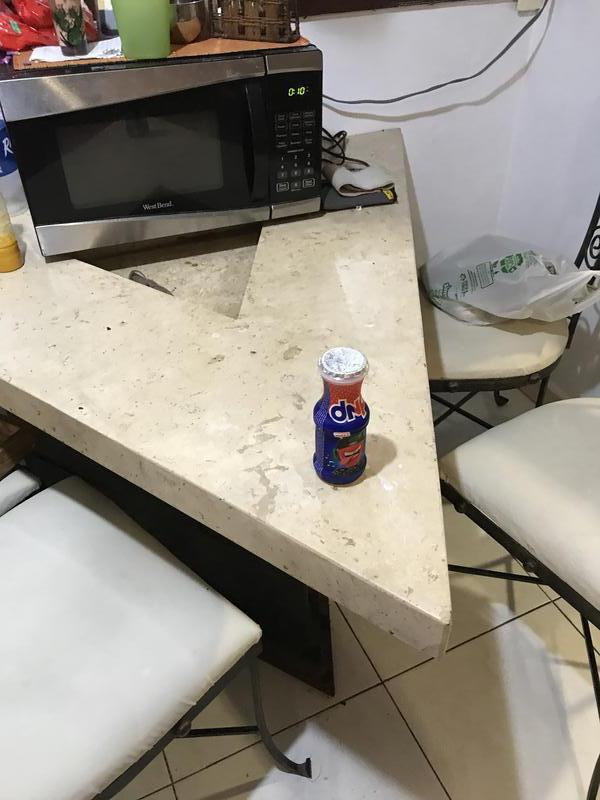danup: (315, 347, 370, 485)
